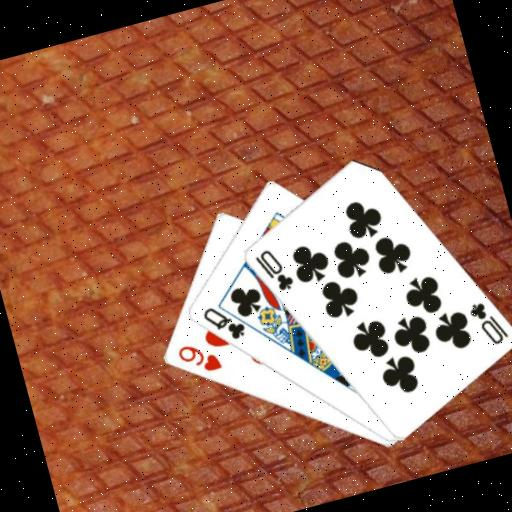10C: (463, 293, 511, 351), (250, 241, 297, 298)
9H: (172, 334, 224, 381)
QC: (197, 296, 249, 348)
